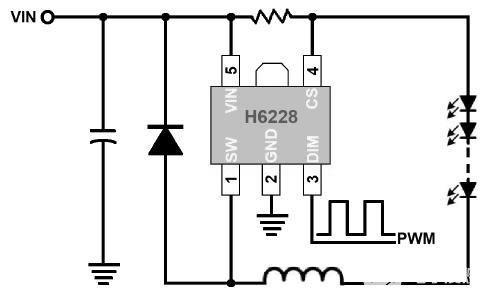cap2: (87, 125, 120, 147)
diode: (144, 121, 188, 160), (458, 93, 479, 115), (458, 120, 479, 142), (459, 180, 479, 202)
gnd: (85, 260, 123, 287), (254, 211, 290, 238)
inductance: (258, 262, 346, 292)
res2: (249, 7, 297, 27)
